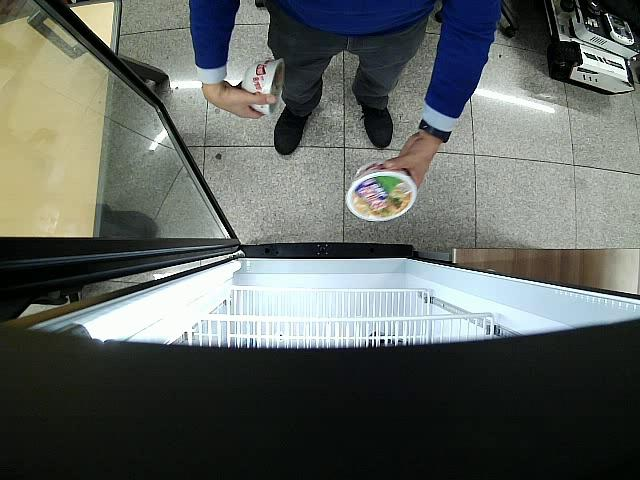00_hand: (382, 134, 439, 188), (203, 87, 276, 118)
09_yukGaeJang: (345, 160, 418, 220), (242, 58, 286, 115)
